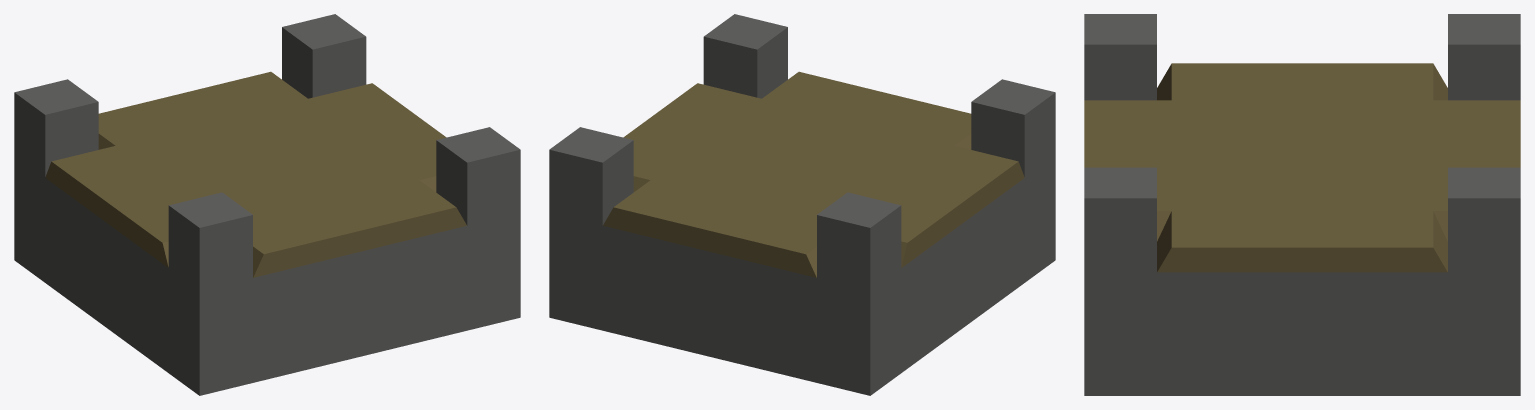
Rendered from Garden Bed Cross.fbx.
3 views of the same model, side by side, from view 1: azimuth 30°, elevation 25°; view 2: azimuth 150°, elevation 25°; view 3: azimuth 270°, elevation 25° (orthographic). The views are drawn at different scales.
Visible parts, largest first — view 1: Garden Bed Cross; view 2: Garden Bed Cross; view 3: Garden Bed Cross.
Boxes of the visible parts, x1,y1,x2,y2 form: Garden Bed Cross: (14,14,520,395); Garden Bed Cross: (549,14,1055,395); Garden Bed Cross: (1084,14,1520,395).
Bounding box in the file's own units: 800 × 400 × 800.
